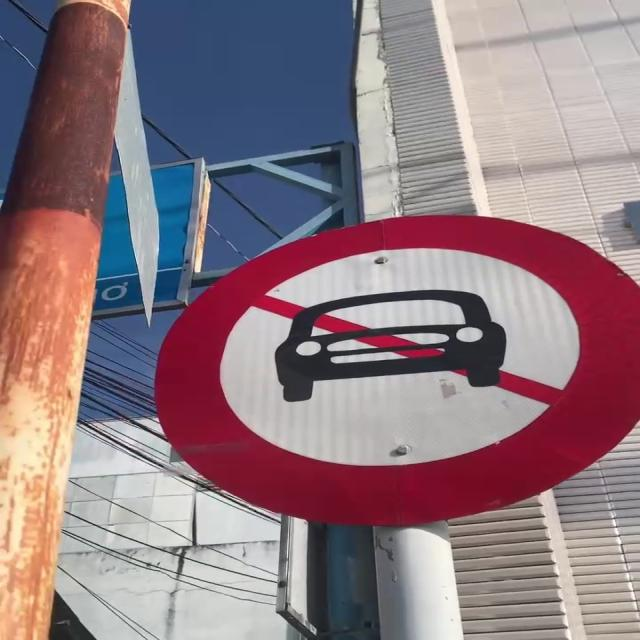Cam_O_To: (158, 212, 640, 529)
